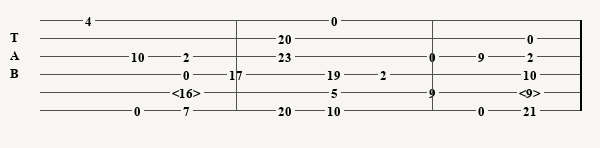0: (134, 104, 145, 117), (183, 68, 194, 81), (331, 14, 342, 27), (429, 50, 440, 63), (478, 104, 489, 117), (527, 32, 538, 45)
10: (131, 50, 149, 63), (327, 104, 345, 117), (523, 68, 541, 81)
17: (229, 68, 247, 81)
19: (327, 68, 345, 81)
2: (183, 50, 194, 63), (380, 68, 391, 81), (527, 50, 538, 63)
20: (278, 104, 296, 117), (278, 32, 296, 45)
21: (523, 104, 541, 117)
23: (278, 50, 296, 63)
4: (85, 14, 96, 27)
5: (331, 86, 342, 99)
7: (183, 104, 194, 117)
9: (429, 86, 440, 99), (478, 50, 489, 63)
harmonic: (172, 86, 205, 99), (519, 86, 545, 99)
